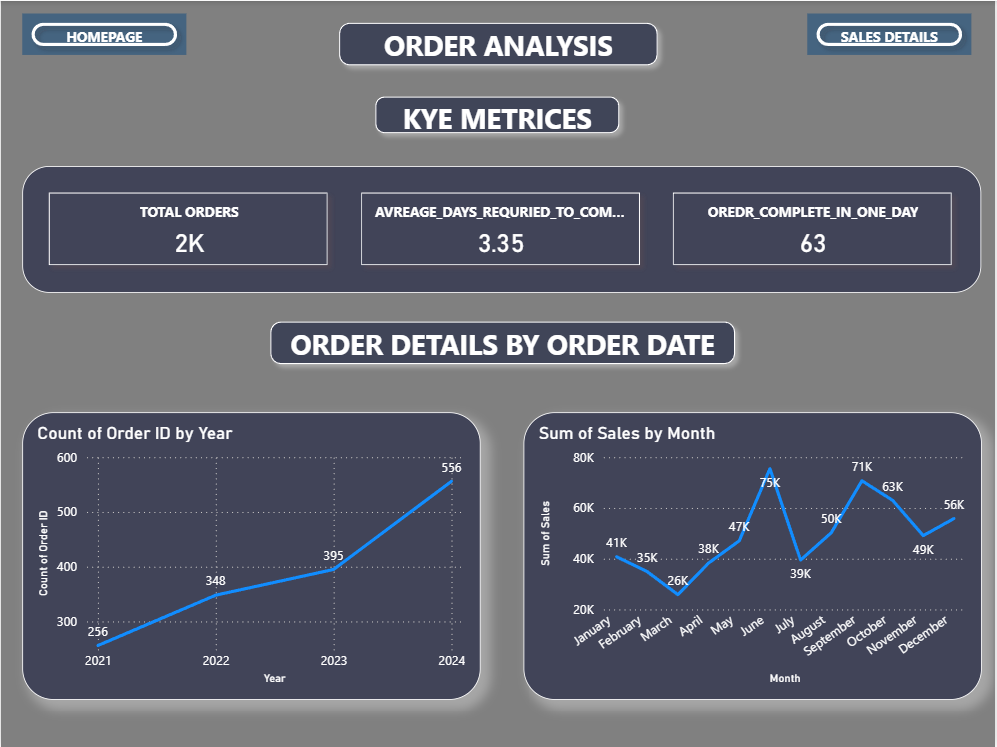

This screenshot's page, from the dashboard's own definition file:
{"tool":"powerbi","page":{"name":"ORDER DETAILS","canvas":[960,720],"ordinal":1},"visuals":[{"type":"shape","box":[316.8,11.5,325.4,59],"z":0},{"type":"shape","box":[352.8,83.5,253.4,53.3],"z":1000},{"type":"cardVisual","fields":{"Data":["Dataset.TOTAL ORDERS","Dataset.AVREAGE_DAYS_REQURIED_TO_COMPLETE_OREDR","Dataset.OREDR_COMPLETE_IN_ONE_DAY"]},"box":[20.2,159.8,925.9,122.4],"z":2000},{"type":"shape","box":[250.6,301,466.6,59],"z":3000},{"type":"lineChart","fields":{"Y":["CountNonNull(Dataset.Order ID)"],"Category":["Dataset.Order Date.Variation.Date Hierarchy.Year"]},"box":[20.2,397.4,442.1,277.9],"z":4000},{"type":"lineChart","fields":{"Category":["Dataset.Order Date.Variation.Date Hierarchy.Month"],"Y":["Sum(Dataset.Sales)"]},"box":[504,397.4,442.1,277.9],"z":5000},{"type":"actionButton","title":"REGION","box":[777.6,11.5,158.4,40.3],"z":6000},{"type":"actionButton","title":"REGION","box":[20.2,11.5,158.4,40.3],"z":7000}]}

Visuals, with their boxes in screenshot pixels (x1, y1, x2, y2), scaled from the page's 960x720 canvas onto the 997x747 screenshot:
shape: bbox=(329, 12, 667, 73)
shape: bbox=(366, 87, 630, 142)
cardVisual - Dataset.TOTAL ORDERS x Dataset.AVREAGE_DAYS_REQURIED_TO_COMPLETE_OREDR: bbox=(21, 166, 983, 293)
shape: bbox=(260, 312, 745, 374)
lineChart - CountNonNull(Dataset.Order ID) x Dataset.Order Date.Variation.Date Hierarchy.Year: bbox=(21, 412, 480, 701)
lineChart - Dataset.Order Date.Variation.Date Hierarchy.Month x Sum(Dataset.Sales): bbox=(523, 412, 983, 701)
"REGION" actionButton: bbox=(808, 12, 972, 54)
"REGION" actionButton: bbox=(21, 12, 185, 54)
